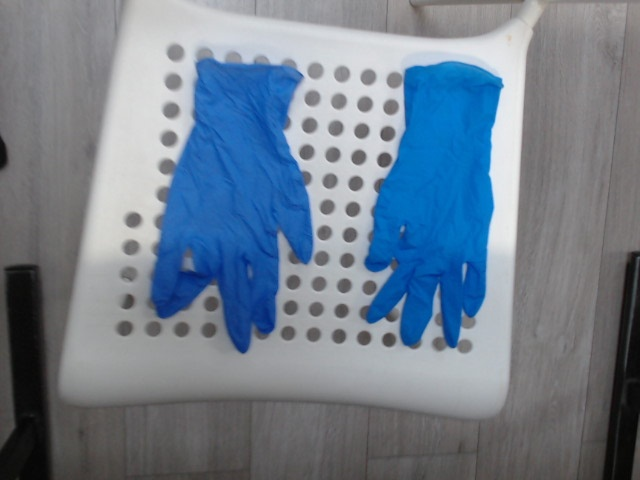medical_glove: (154, 57, 315, 354), (369, 60, 502, 346)
